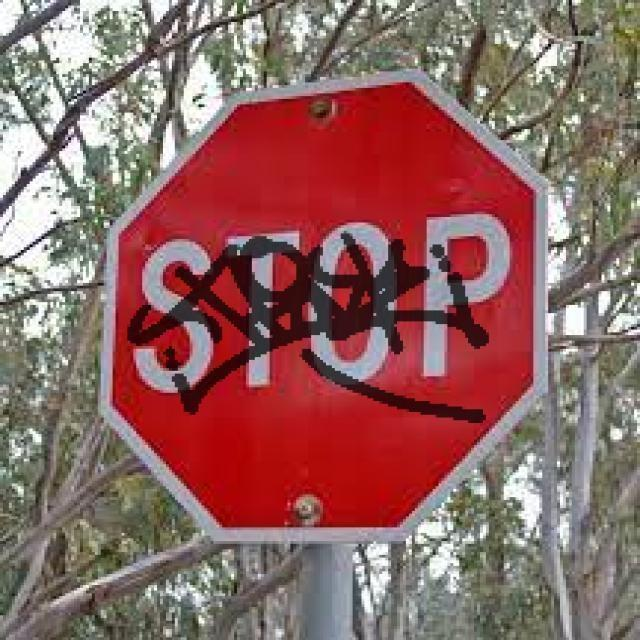Stop-Sign: (126, 94, 540, 524)
